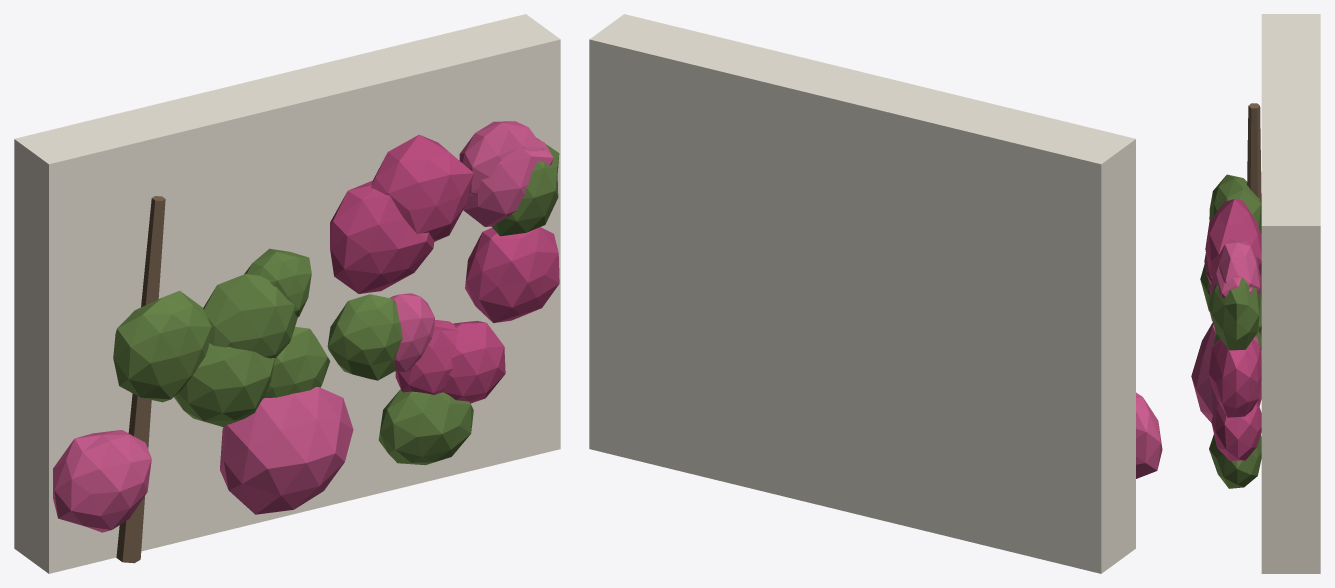
File: begonvil.glb
The picture shows the model from 3 angles, left to right: view 1: azimuth 30°, elevation 25°; view 2: azimuth 150°, elevation 25°; view 3: azimuth 270°, elevation 25°; orthographic projection. The views are drawn at different scales.
Parts seen in each view (by area): view 1: badana, yaprak2, begonvil2, begonvil, govde; view 2: badana, begonvil2; view 3: badana, begonvil, yaprak2, begonvil2, govde.
Boxes of the visible parts, x1,y1,x2,y2 form: badana: (14, 14, 560, 573); yaprak2: (113, 138, 559, 465); begonvil2: (53, 121, 553, 532); begonvil: (330, 134, 559, 403); govde: (116, 196, 165, 563); badana: (589, 14, 1135, 573); begonvil2: (1136, 392, 1162, 478); badana: (1261, 14, 1320, 573); begonvil: (1204, 199, 1261, 460); yaprak2: (1200, 174, 1261, 488); begonvil2: (1191, 238, 1261, 422); govde: (1247, 103, 1261, 337).
Bounding box in the file's own units: 3.46 × 2.61 × 0.8765.
